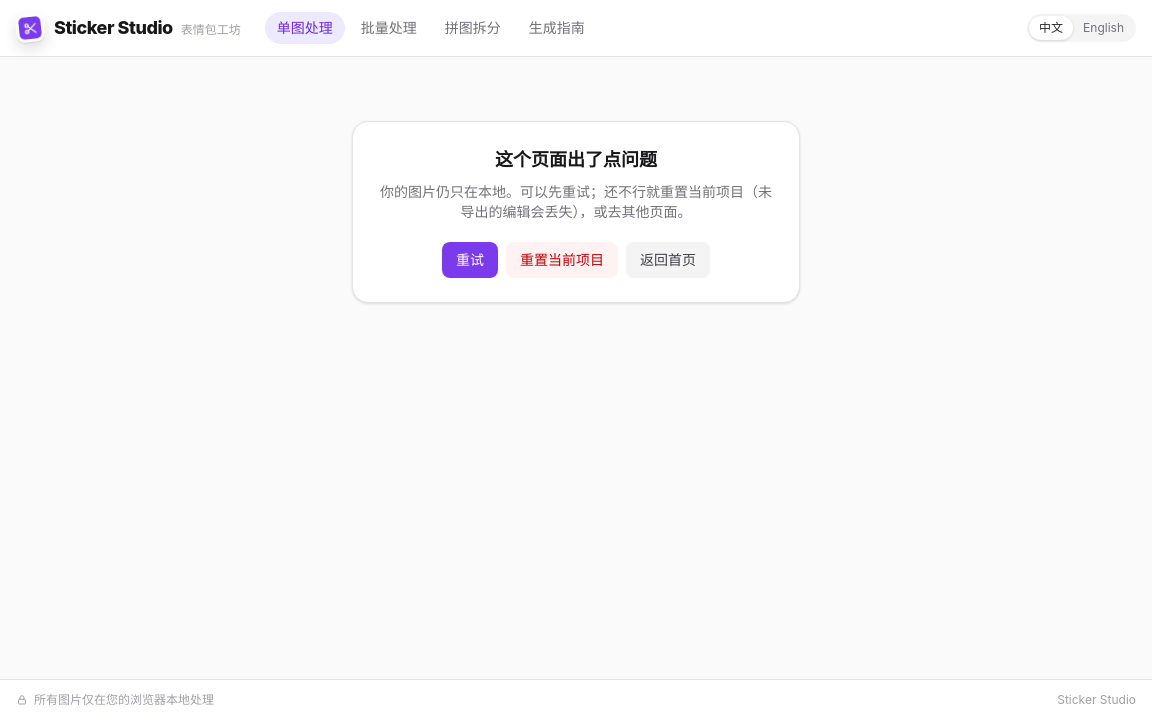
route-level error boundary › reset on /single clears only its own store
What coordinates should you click on to do the following:
click the button "重置当前项目"
I would click on:
 (562, 260)
Its box is [506,242,618,278].
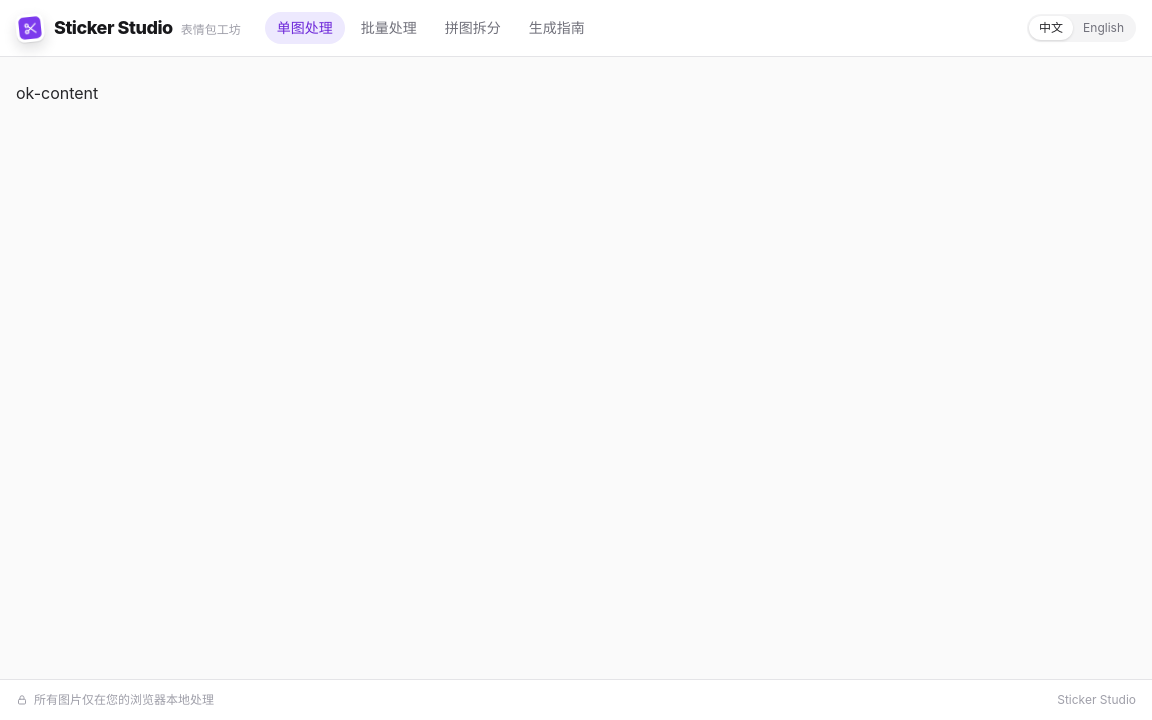
Expected: the text "ok-content" is shown, [16,83,98,103]
